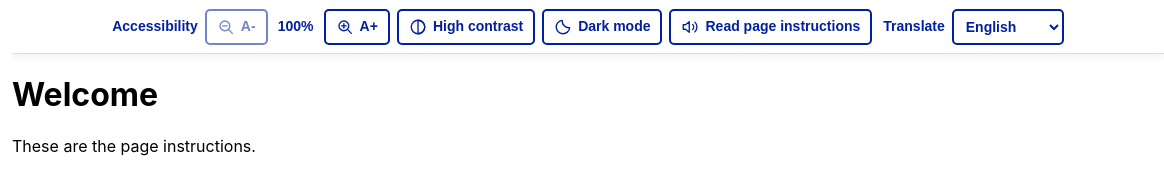
Test: AccessibilityToolbar › stops page instructions when the read button is pressed again
What coordinates should you click on to do the following:
click the button "Read page instructions"
I would click on:
 (771, 26)
Its box is x1=670 y1=8 x2=872 y2=44.
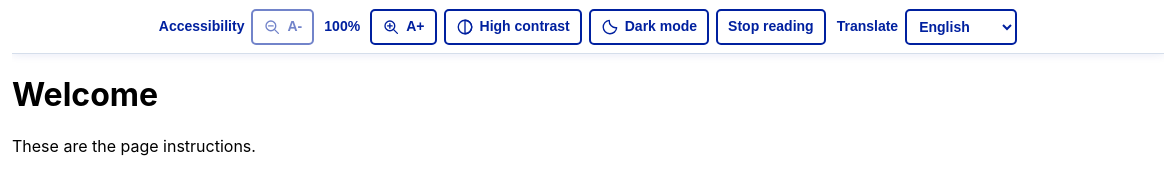
Expected: the button "Stop reading" is shown
What coordinates should you click on to do the following:
click the button "Stop reading"
I would click on:
 (771, 26)
Its box is x1=716 y1=8 x2=826 y2=44.
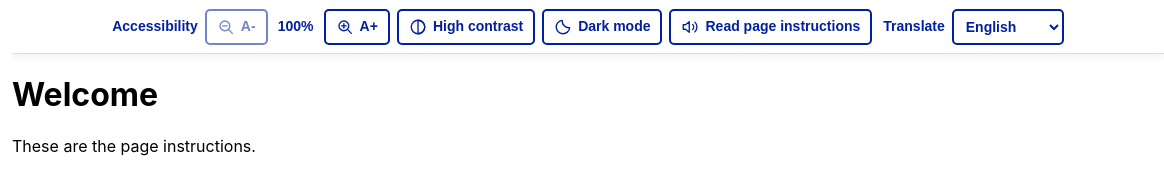
Expected: the button "Read page instructions" is shown, x1=670 y1=8 x2=872 y2=44
